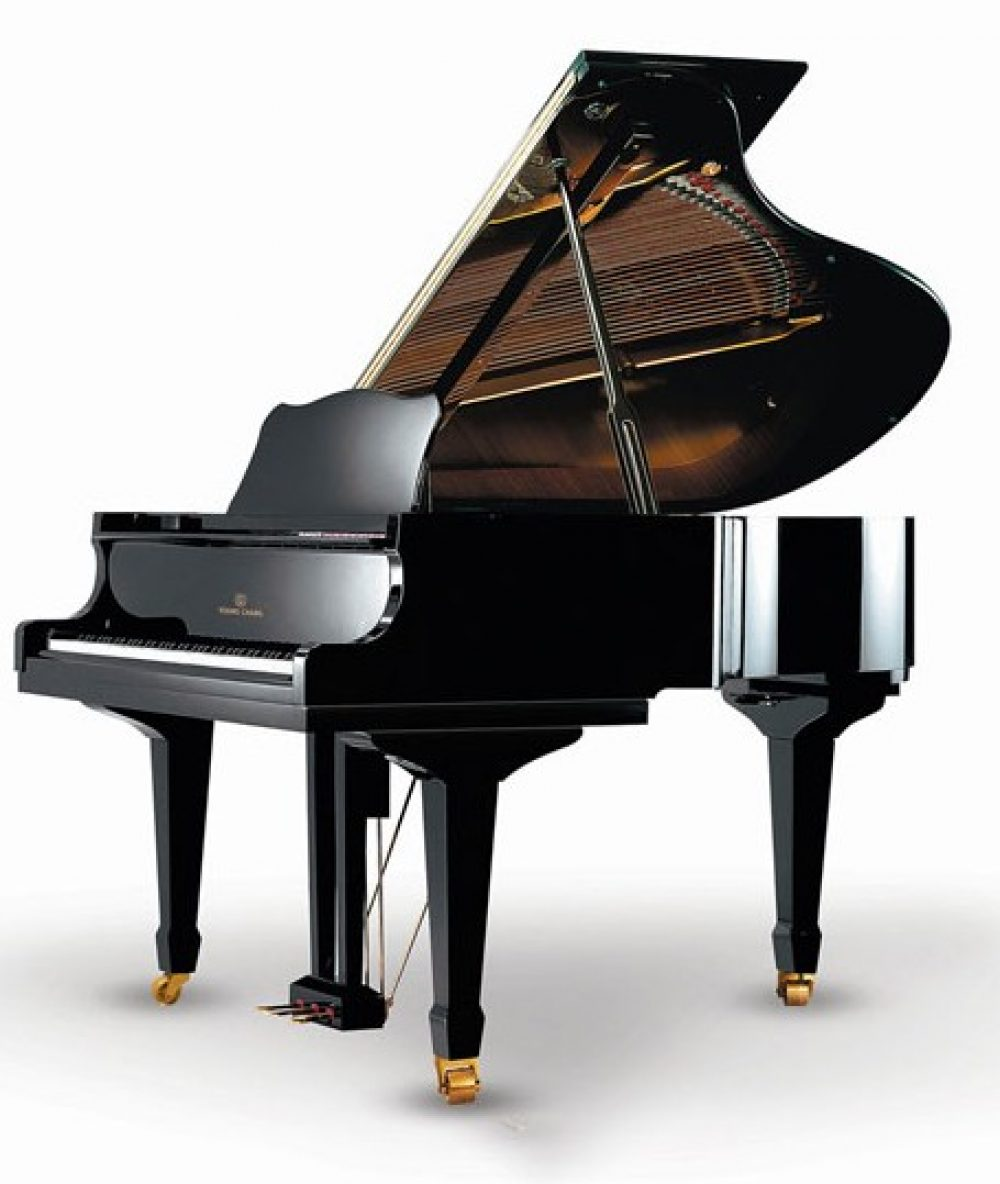GrandPiano: (11, 52, 928, 1106)
